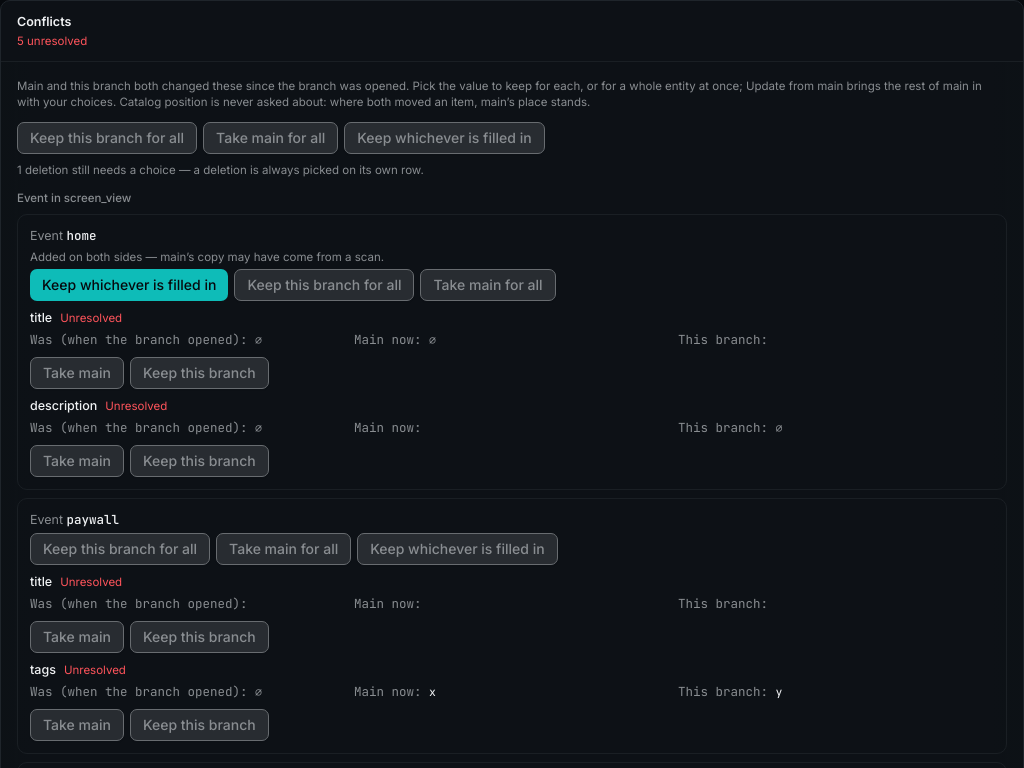
Test: ConflictsPanel bulk choices › touches only its own entity, and suggests "filled in" where both sides added it
The image size is (1024, 768).
Expected: the text "5 unresolved" is shown, [17,34,87,48]
Expected: the button "Keep whichever is filled in" below "home" is shown, [30,269,228,301]
Click the 2nd button "Take main for all": click(488, 285) [420,269,556,301]
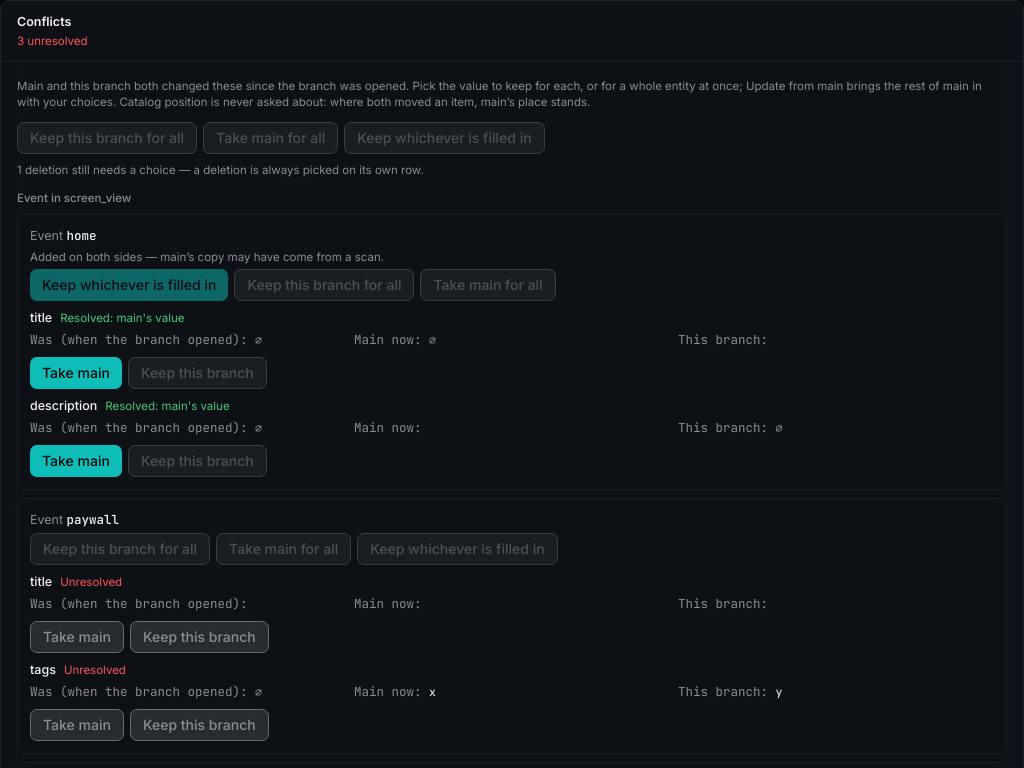
Expected: the text "3 unresolved" is shown, [17,34,88,48]
